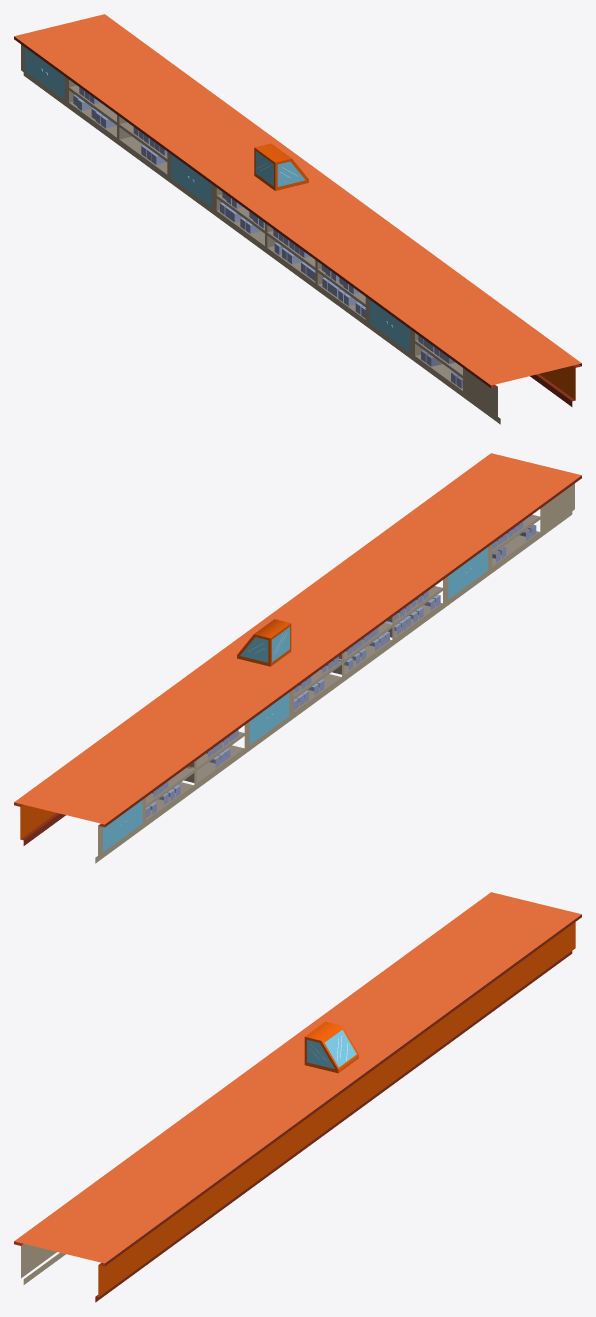
Rendered from Mostrador.fbx.
The picture shows the model from 3 angles, top to bottom: view 1: azimuth 30°, elevation 25°; view 2: azimuth 150°, elevation 25°; view 3: azimuth 330°, elevation 25°; orthographic projection.
Visible parts, largest first — view 1: DOME_019_Krusty_Burger.001, DOME_009_Krusty_07; view 2: DOME_019_Krusty_Burger.001, DOME_009_Krusty_07; view 3: DOME_019_Krusty_Burger.001, DOME_009_Krusty_07.
Part boxes in pixels (x1=…): DOME_019_Krusty_Burger.001: x1=14, y1=14, x2=581, y2=424; DOME_009_Krusty_07: x1=254, y1=143, x2=308, y2=190; DOME_019_Krusty_Burger.001: x1=14, y1=453, x2=581, y2=863; DOME_009_Krusty_07: x1=237, y1=619, x2=291, y2=666; DOME_019_Krusty_Burger.001: x1=14, y1=892, x2=581, y2=1302; DOME_009_Krusty_07: x1=304, y1=1021, x2=358, y2=1073.
Bounding box in the file's own units: 197 × 145 × 1793.
Materials: 2 (2 with a texture image).
